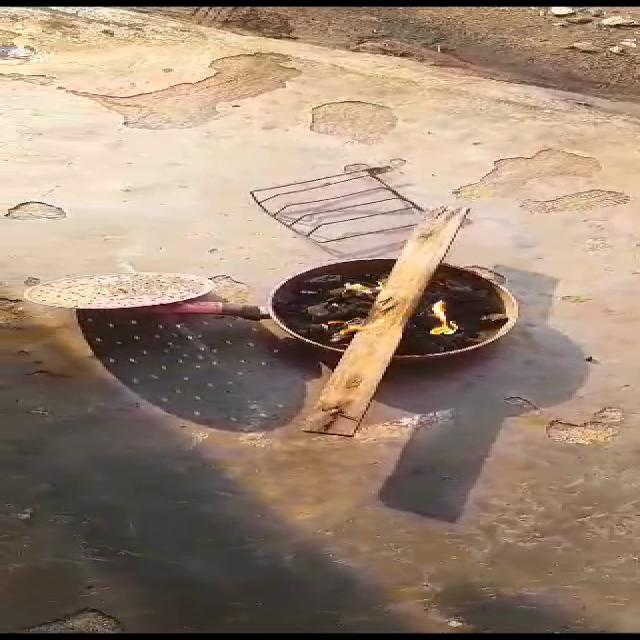Fire: (314, 286, 397, 340), (418, 297, 470, 343)
